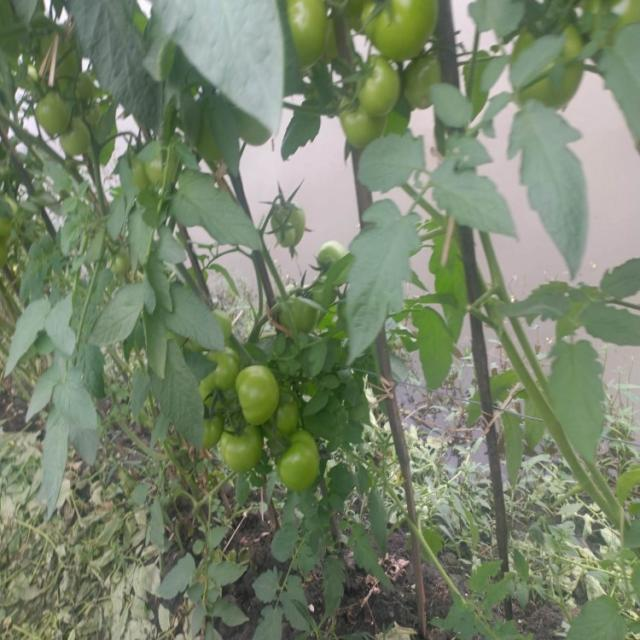tomato: (514, 32, 586, 116), (352, 1, 449, 53), (288, 2, 331, 70), (241, 364, 277, 429), (278, 442, 327, 488), (361, 56, 400, 113), (406, 60, 451, 104), (222, 435, 266, 476), (197, 340, 235, 386), (277, 292, 323, 326), (277, 200, 308, 249), (343, 115, 379, 148), (38, 91, 69, 129), (135, 158, 170, 190), (314, 241, 350, 271), (63, 128, 92, 159), (105, 245, 132, 272), (278, 404, 301, 435), (216, 305, 235, 338), (200, 410, 217, 442)
